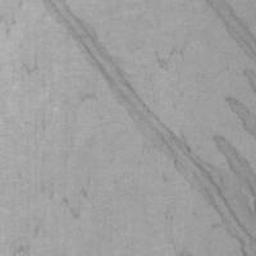Water spot: (47, 0, 256, 256), (214, 131, 256, 223), (205, 0, 256, 61), (227, 93, 256, 142), (251, 67, 256, 86)
